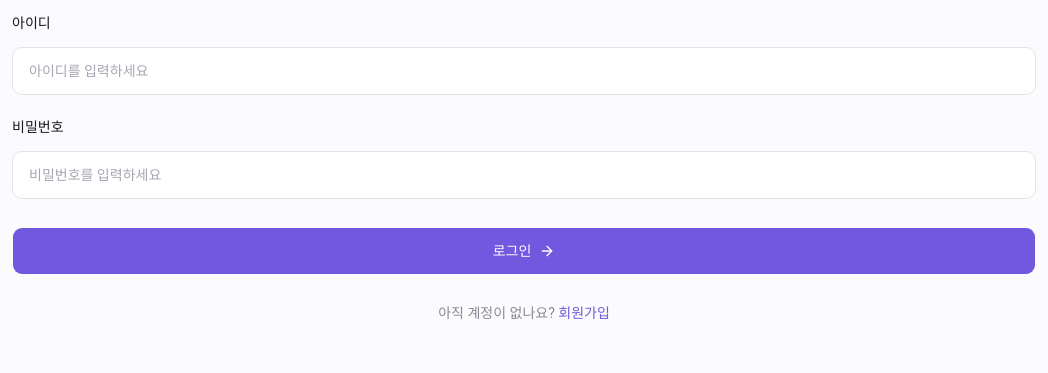
Test: login API integration › rejects a success response with invalid tokens: {"success":true,"data":{"accessToken":"access-only"}}
Type "  driver  " into the field labelled "아이디" at (524, 71), box [12,47,1036,95]
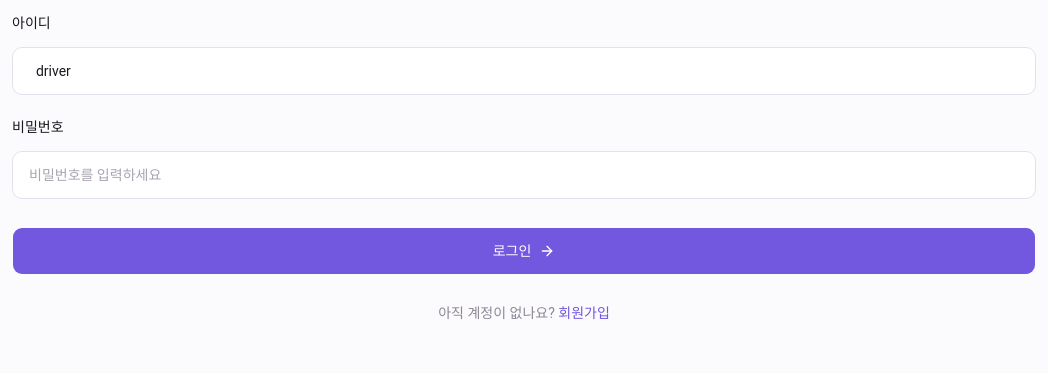
Type "password123" into the password field labelled "비밀번호" at (524, 175), box [12,151,1036,199]
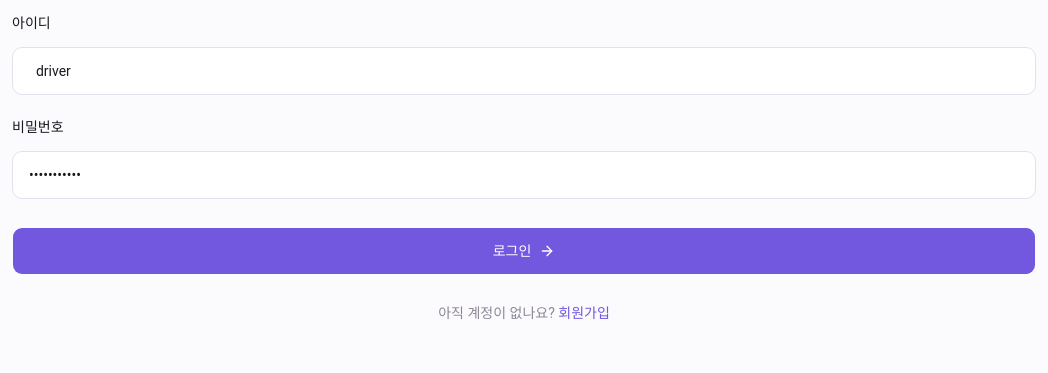
Click the button "로그인" at (524, 251), box [12,227,1036,275]
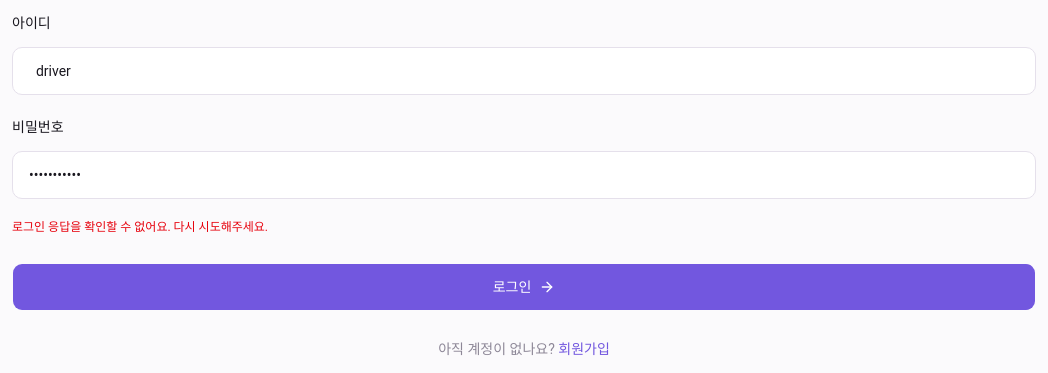
Expected: the button "로그인" is shown, [12,263,1036,311]
Expected: the message "로그인 응답을 확인할 수 없어요. 다시 시도해주세요." is shown, [12,220,268,234]
